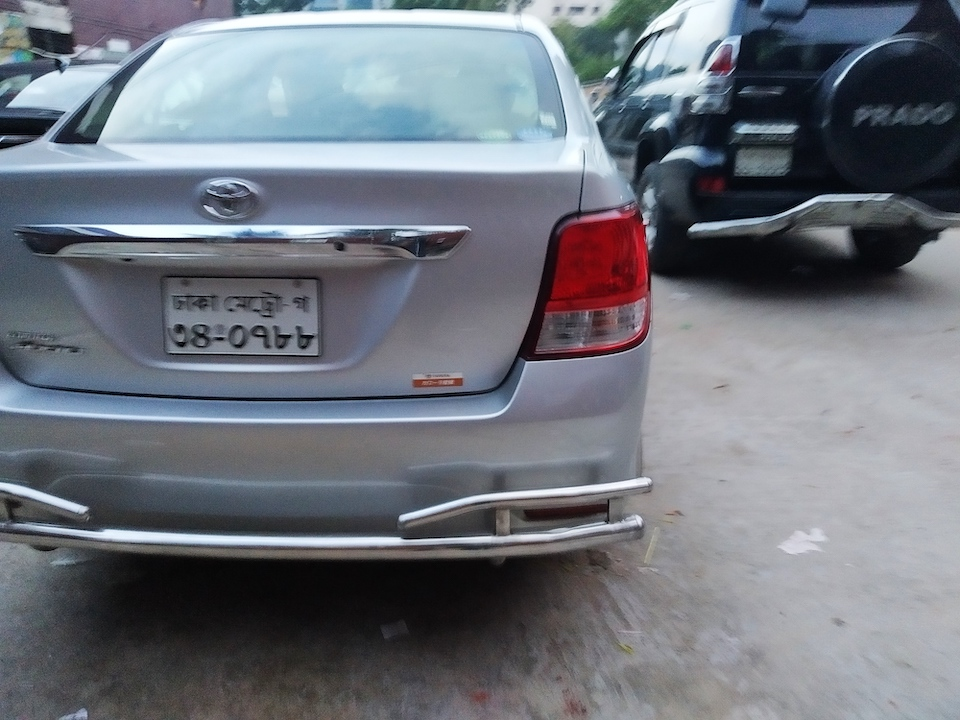registration_plate: (160, 274, 324, 357), (734, 147, 793, 177)
